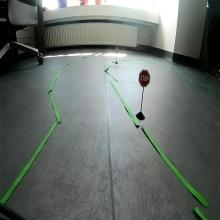stop: (138, 69, 150, 87)
